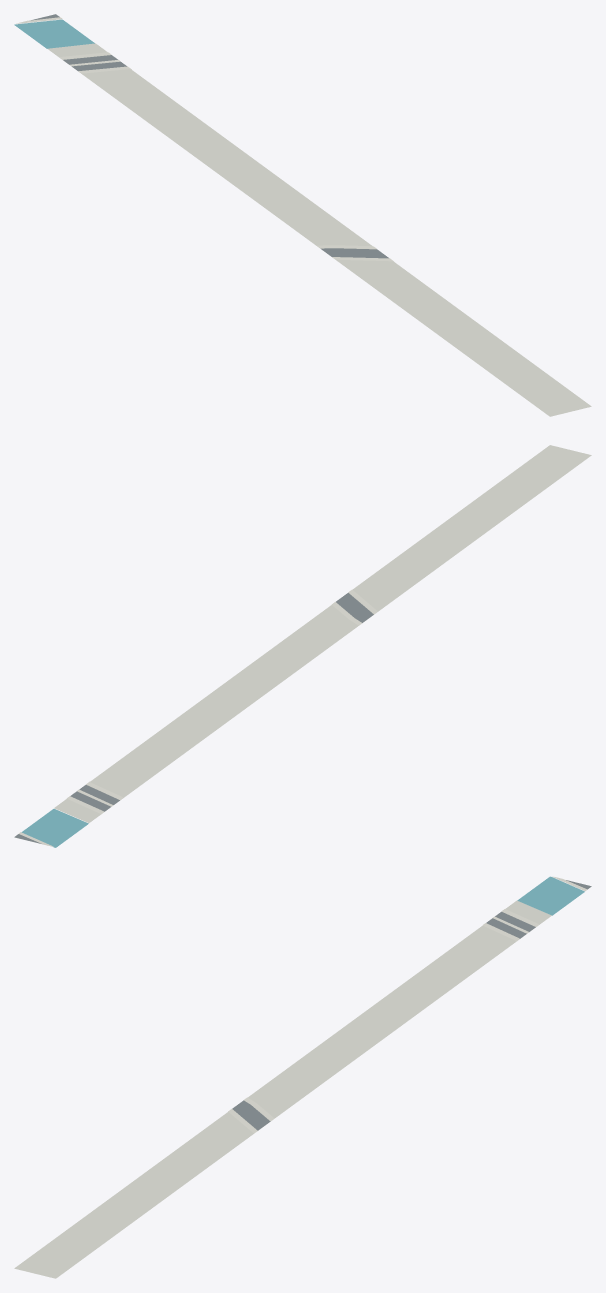
3 renders of one model, top to bottom at view 1: azimuth 30°, elevation 25°; view 2: azimuth 150°, elevation 25°; view 3: azimuth 330°, elevation 25°, orthographic.
Visible parts, largest first — view 1: city; view 2: city; view 3: city.
Part boxes in pixels (bbox=[...]): city: bbox=[14, 14, 591, 416]; city: bbox=[14, 445, 591, 847]; city: bbox=[14, 876, 591, 1278].
Size of the model in its own units: 22.58 by 0.4 by 500.
